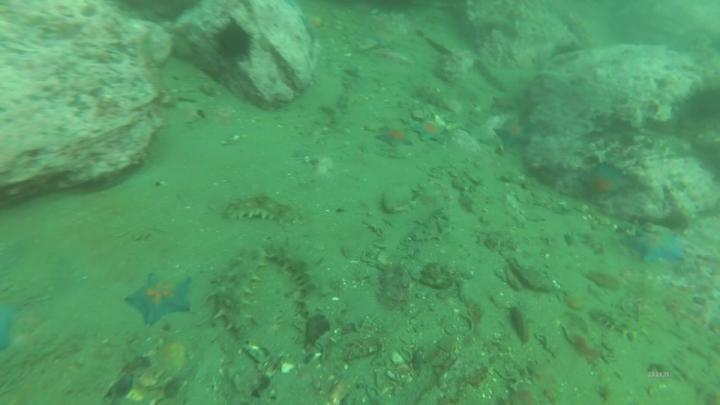echinus: (210, 15, 262, 67)
holothurian: (206, 247, 263, 346), (262, 239, 330, 301), (221, 195, 300, 230), (594, 301, 653, 345), (406, 202, 458, 241), (415, 81, 457, 116)
starfish: (125, 268, 195, 324), (617, 218, 685, 266), (582, 162, 635, 207), (495, 117, 539, 150), (410, 118, 454, 148), (296, 10, 330, 44), (379, 125, 414, 149)
